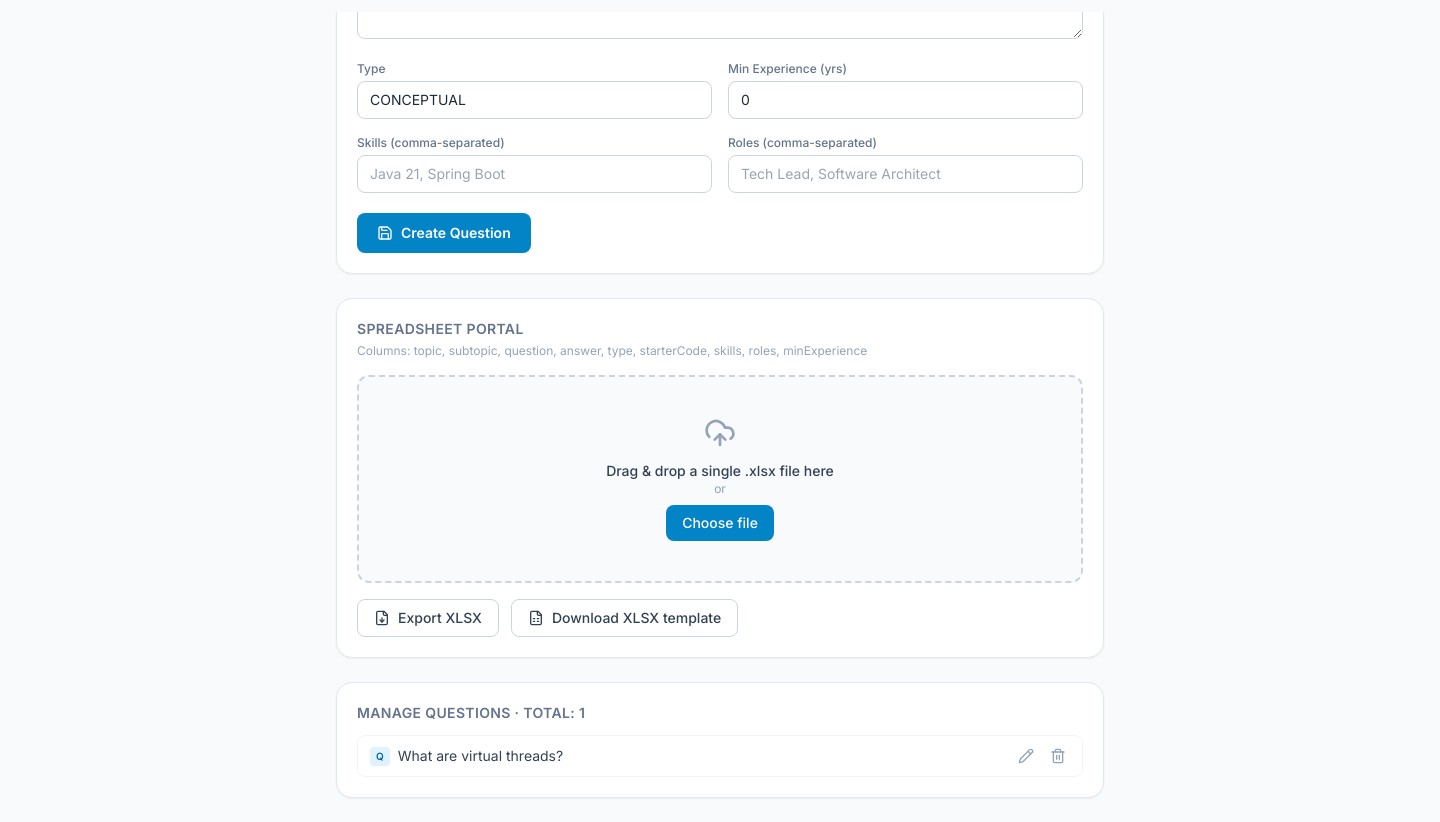
Test: AdminPanel › shows info toast when export has no questions
(page scrolled)
Click the button "Export XLSX". click: point(428, 618)
box: left=357, top=599, right=499, bottom=637
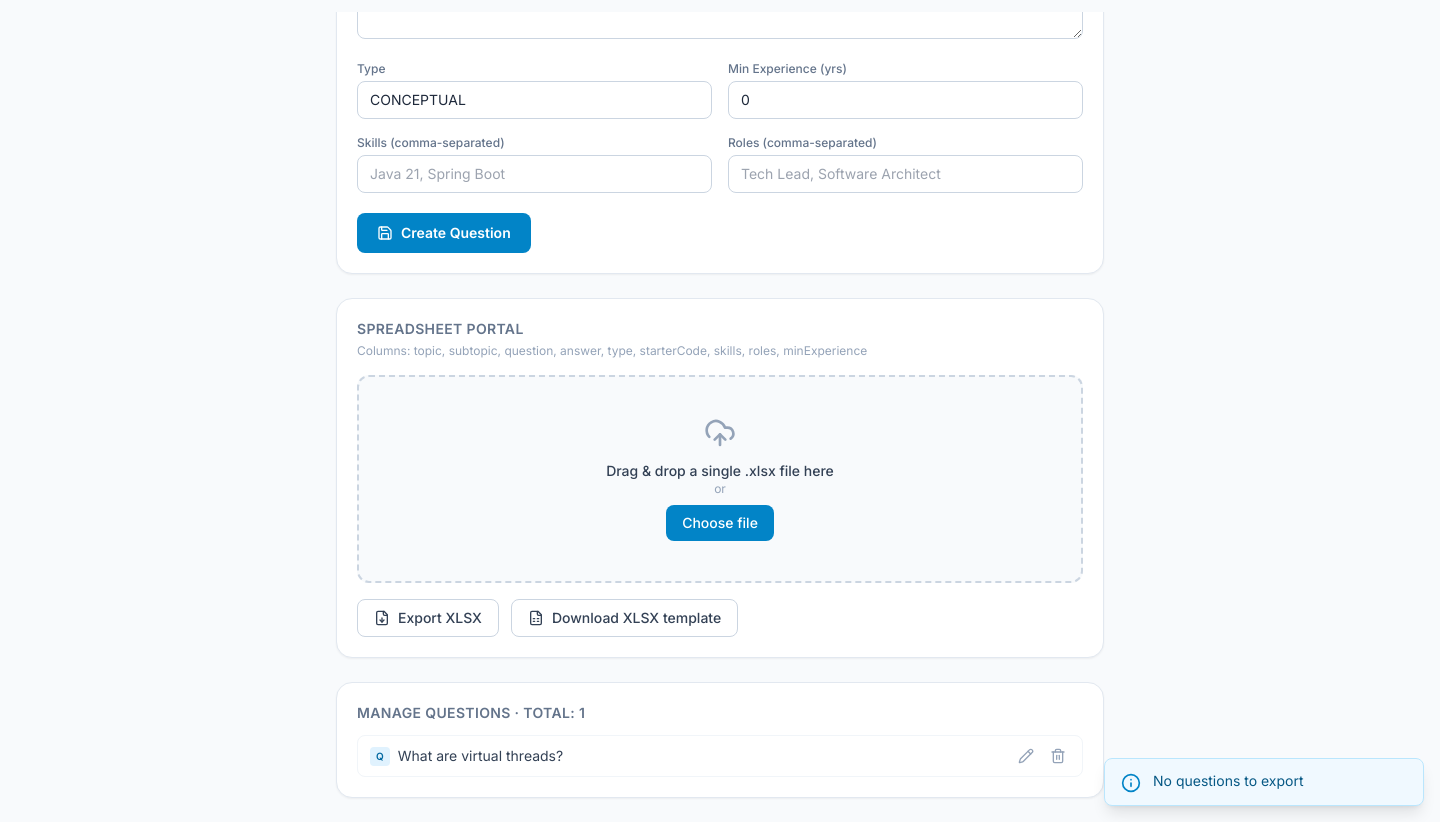
Result: the text "No questions to export" is shown at left=1153, top=772, right=1304, bottom=789
